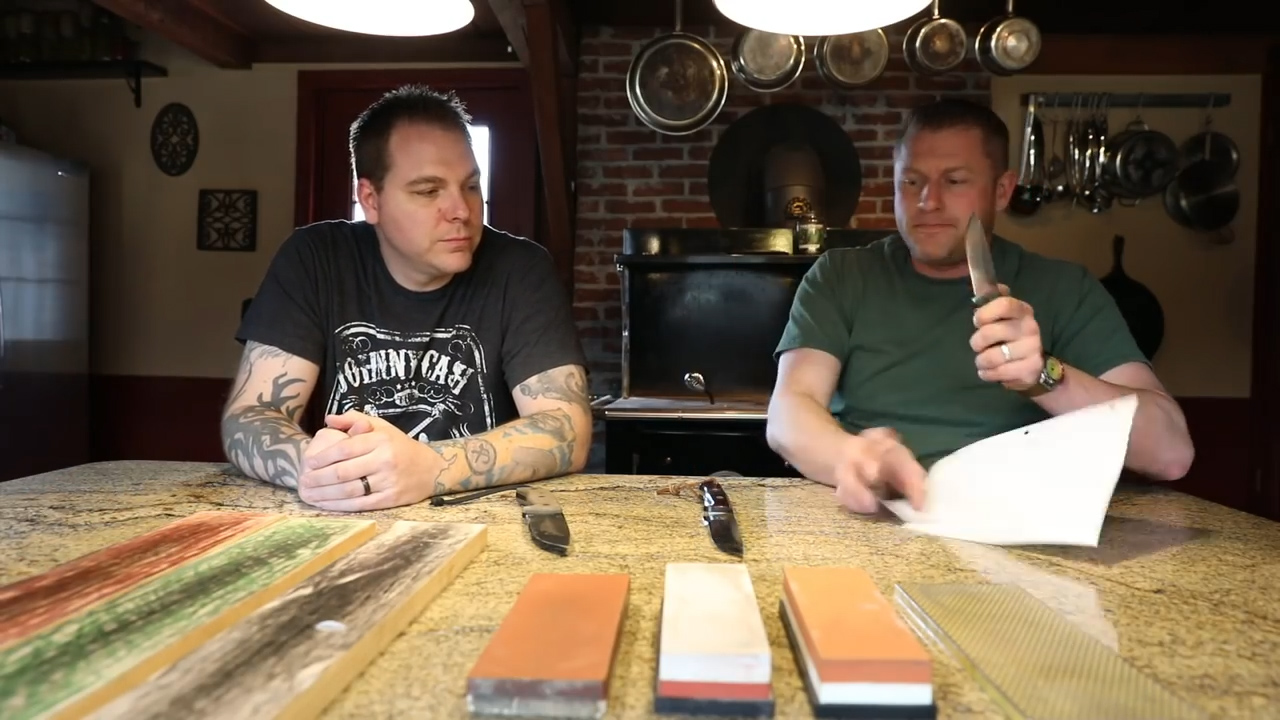knife: (953, 198, 1045, 356)
